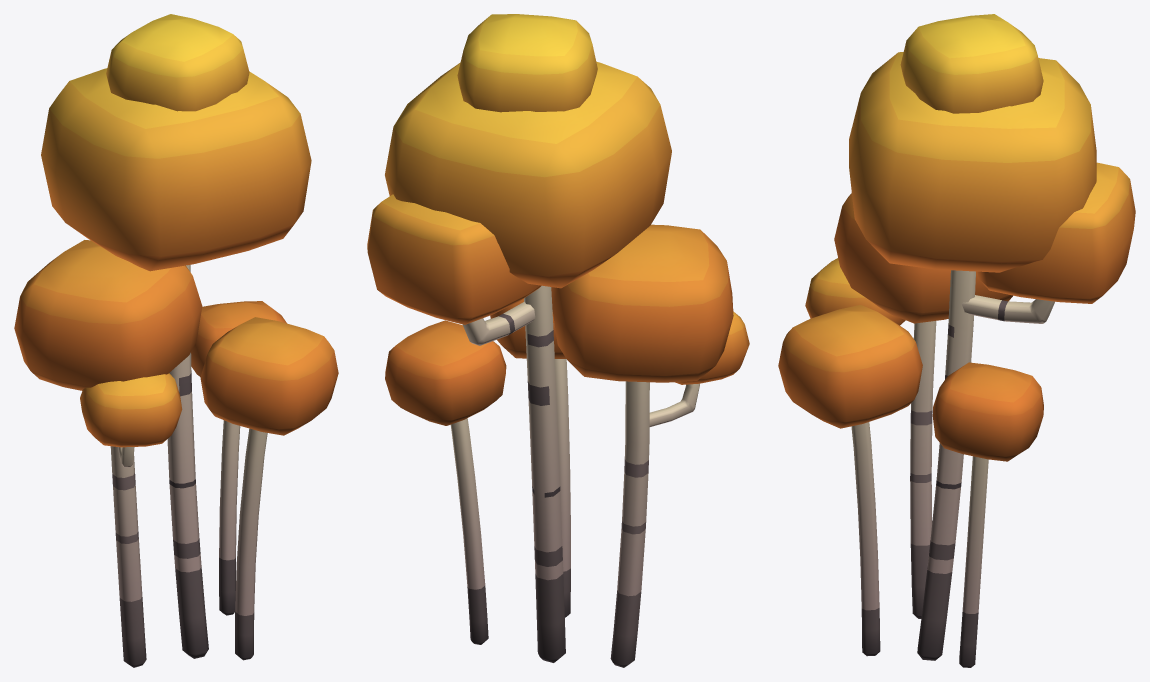
File: birch_tree_col2_07.fbx
3 renders of one model, left to right at view 1: azimuth 30°, elevation 25°; view 2: azimuth 150°, elevation 25°; view 3: azimuth 270°, elevation 25°, orthographic. The views are drawn at different scales.
Visible parts, largest first — view 1: birch_tree_col2_07; view 2: birch_tree_col2_07; view 3: birch_tree_col2_07.
Part boxes in pixels (<box>): birch_tree_col2_07: <box>14,14,338,667</box>; birch_tree_col2_07: <box>367,14,749,667</box>; birch_tree_col2_07: <box>778,14,1135,667</box>.
Size of the model in its own units: 332 by 677 by 347.
1 material, 1 textured.
